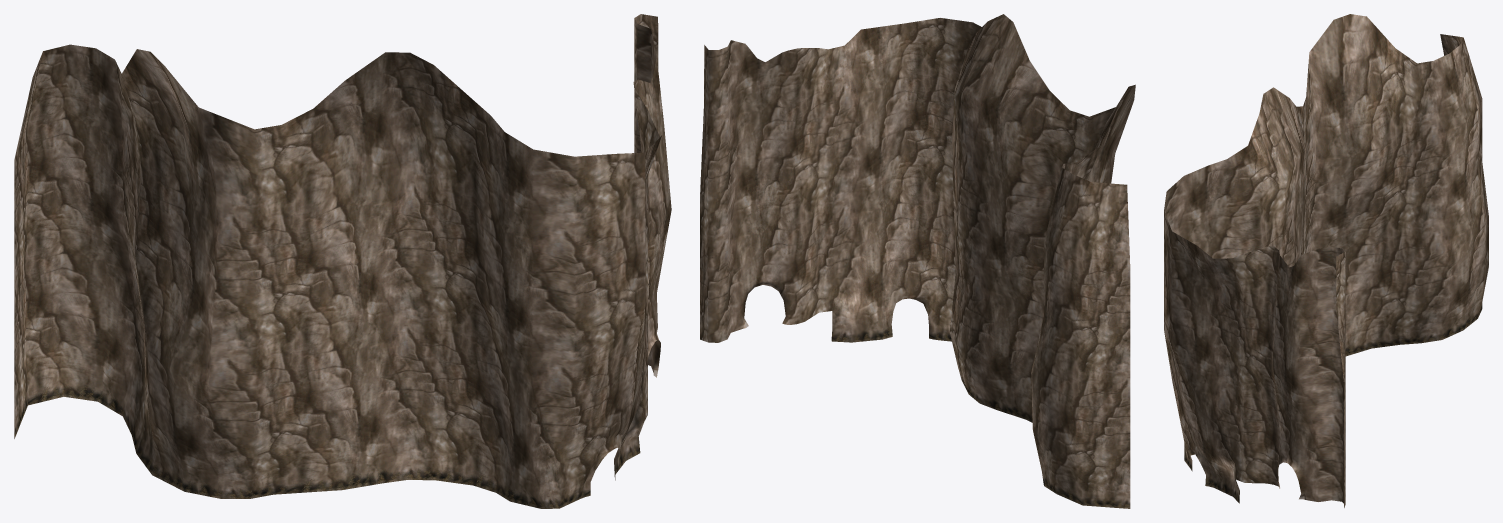
Rendered from OVERHILL_A_01_OBJECT07.fbx.
The picture shows the model from 3 angles, left to right: view 1: azimuth 30°, elevation 25°; view 2: azimuth 150°, elevation 25°; view 3: azimuth 270°, elevation 25°; orthographic projection. The views are drawn at different scales.
Visible parts, largest first — view 1: OVERHILL_A_01_OBJECT07; view 2: OVERHILL_A_01_OBJECT07; view 3: OVERHILL_A_01_OBJECT07.
Part boxes in pixels (<box>): OVERHILL_A_01_OBJECT07: <box>14,14,671,508</box>; OVERHILL_A_01_OBJECT07: <box>700,14,1135,508</box>; OVERHILL_A_01_OBJECT07: <box>1164,14,1488,507</box>.
Size of the model in its own units: 314552 by 237736 by 207557.
Materials: 2 (2 with a texture image).
